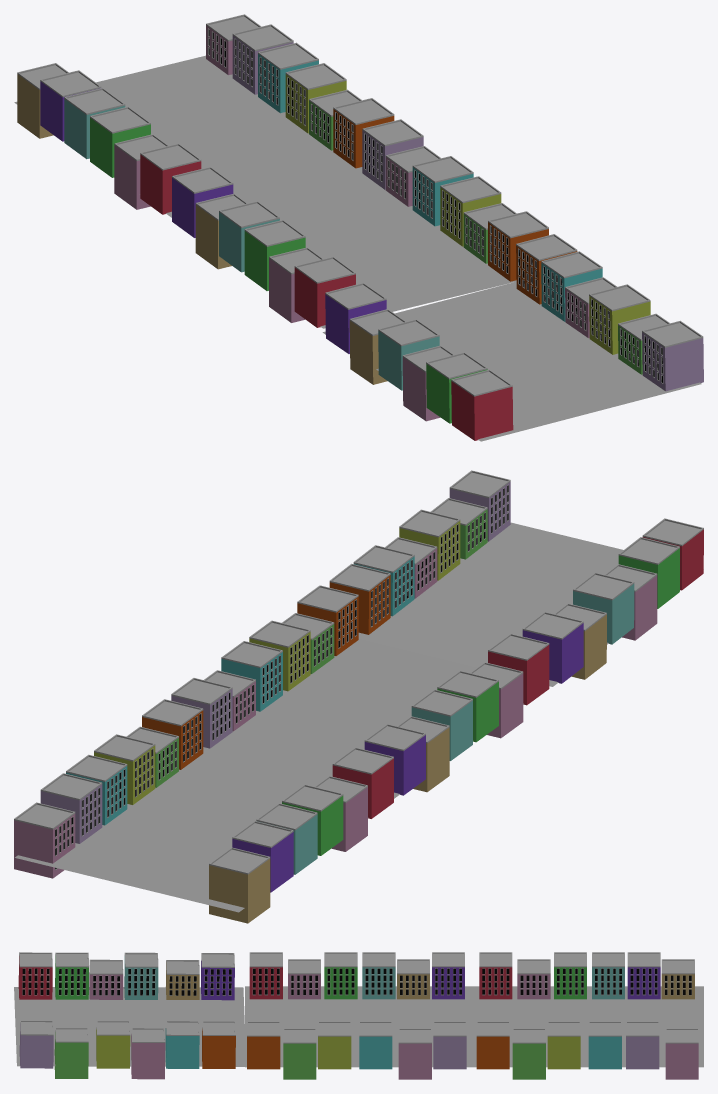
The model's file is aset town.fbx.
The picture shows the model from 3 angles, top to bottom: view 1: azimuth 30°, elevation 25°; view 2: azimuth 150°, elevation 25°; view 3: azimuth 270°, elevation 25°; orthographic projection. The views are drawn at different scales.
Parts seen in each view (by area): view 1: Plane, Plane.001, Plane.002; view 2: Plane.002, Plane, Plane.001; view 3: Plane.002, Plane.001, Plane.
Boxes of the visible parts, x1,y1,x2,y2 form: Plane: [322, 234, 703, 441]; Plane.001: [169, 119, 548, 328]; Plane.002: [14, 14, 394, 215]; Plane.002: [14, 699, 393, 923]; Plane: [329, 470, 703, 686]; Plane.001: [171, 585, 549, 798]; Plane.002: [474, 952, 703, 1079]; Plane.001: [245, 952, 474, 1079]; Plane: [14, 952, 244, 1079].
Bounding box in the file's own units: 1050 × 273 × 3608.
